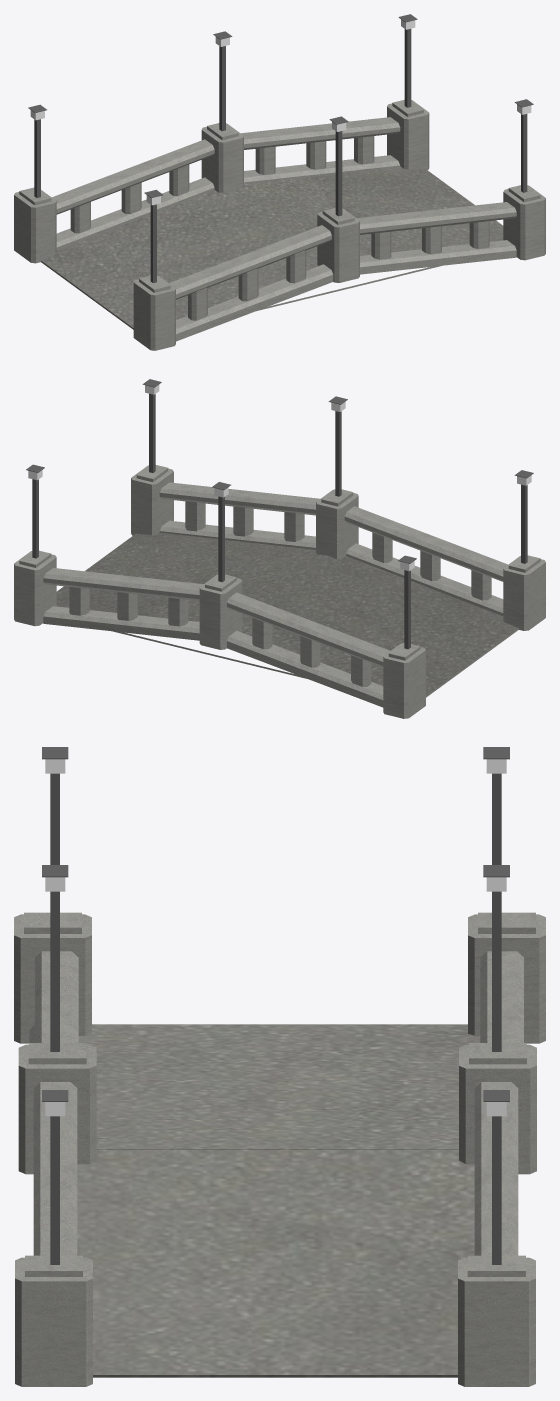
Rendered from Bridge.FBX.
The picture shows the model from 3 angles, top to bottom: view 1: azimuth 30°, elevation 25°; view 2: azimuth 150°, elevation 25°; view 3: azimuth 270°, elevation 25°; orthographic projection. The views are drawn at different scales.
Visible parts, largest first — view 1: Bridge_side, Bridge_base, street_light_pole, street_light_light; view 2: Bridge_side, Bridge_base, street_light_pole, street_light_light; view 3: Bridge_base, Bridge_side, street_light_pole, street_light_light.
Boxes of the visible parts, left/top/right/bottom form: Bridge_side: left=14, top=99, right=545, bottom=350; Bridge_base: left=41, top=166, right=503, bottom=329; street_light_pole: left=28, top=14, right=533, bottom=282; street_light_light: left=30, top=19, right=531, bottom=205; Bridge_side: left=14, top=465, right=545, bottom=718; Bridge_base: left=56, top=532, right=518, bottom=697; street_light_pole: left=26, top=379, right=533, bottom=649; street_light_light: left=28, top=384, right=531, bottom=571; Bridge_base: left=77, top=1024, right=480, bottom=1377; Bridge_side: left=14, top=912, right=545, bottom=1386; street_light_pole: left=42, top=747, right=509, bottom=1264; street_light_light: left=45, top=759, right=506, bottom=1116.
Bounding box in the file's own units: 197 × 83.1 × 120.
4 materials, 4 textured.
